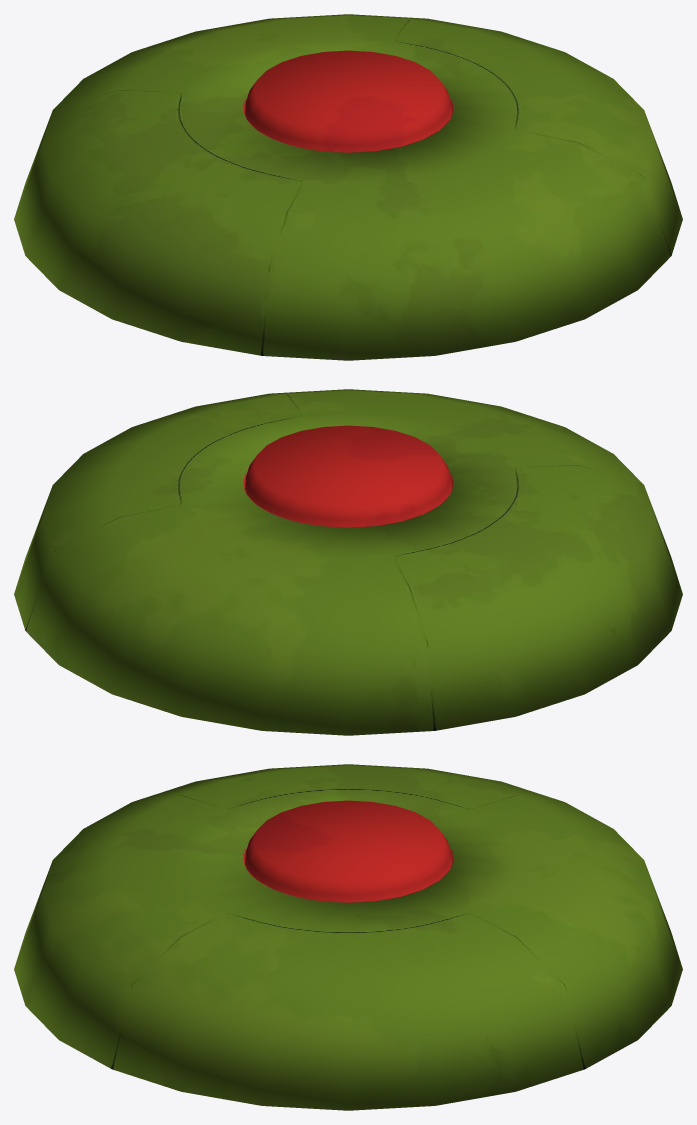
Rendered from landmine.glb.
3 views of the same model, one above another, from view 1: azimuth 30°, elevation 25°; view 2: azimuth 150°, elevation 25°; view 3: azimuth 270°, elevation 25° (orthographic).
Parts seen in each view (by area): view 1: LE_Landmine_Landmine_0; view 2: LE_Landmine_Landmine_0; view 3: LE_Landmine_Landmine_0.
Boxes of the visible parts, left/top/right/bottom form: LE_Landmine_Landmine_0: left=14, top=14, right=682, bottom=360; LE_Landmine_Landmine_0: left=14, top=389, right=682, bottom=735; LE_Landmine_Landmine_0: left=14, top=764, right=682, bottom=1110.
Bounding box in the file's own units: 3.2 × 0.6798 × 3.2.
1 material, 1 textured.
